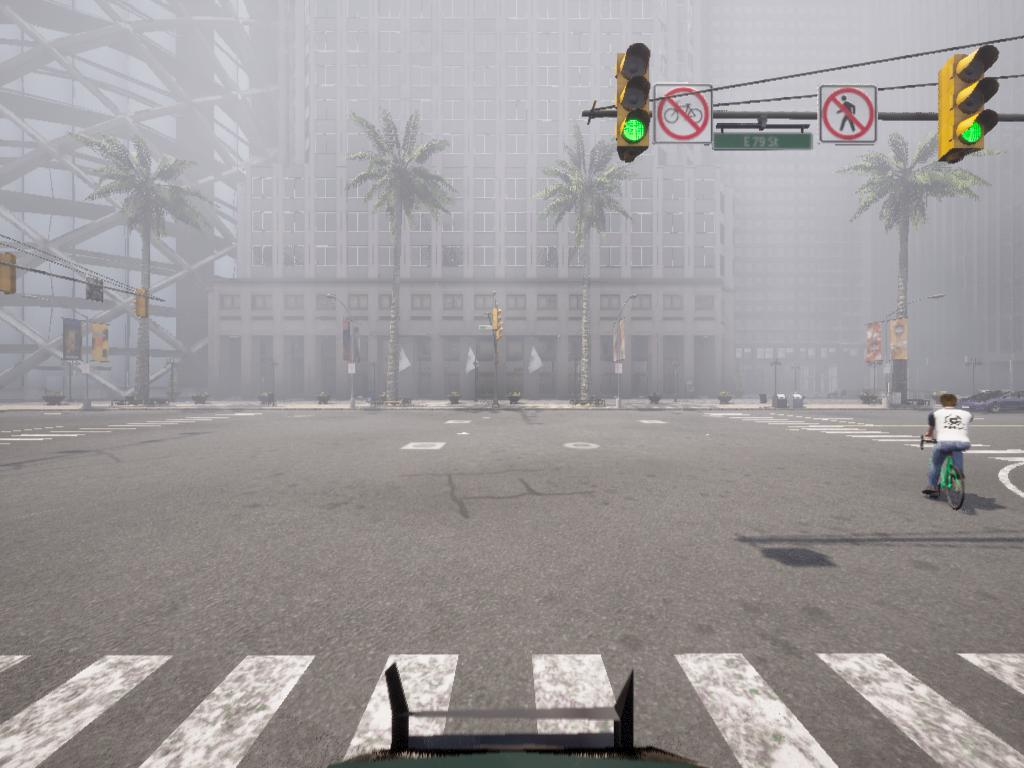traffic_light: (943, 51, 1000, 162), (618, 46, 658, 162)
